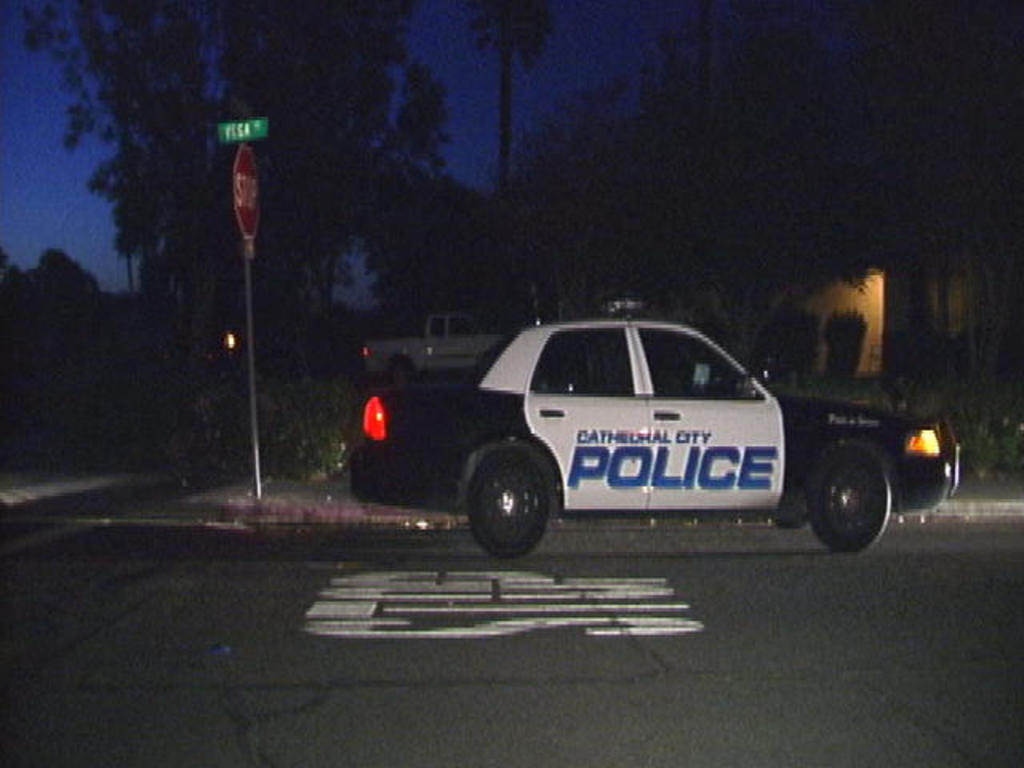mobil: (353, 319, 958, 548)
